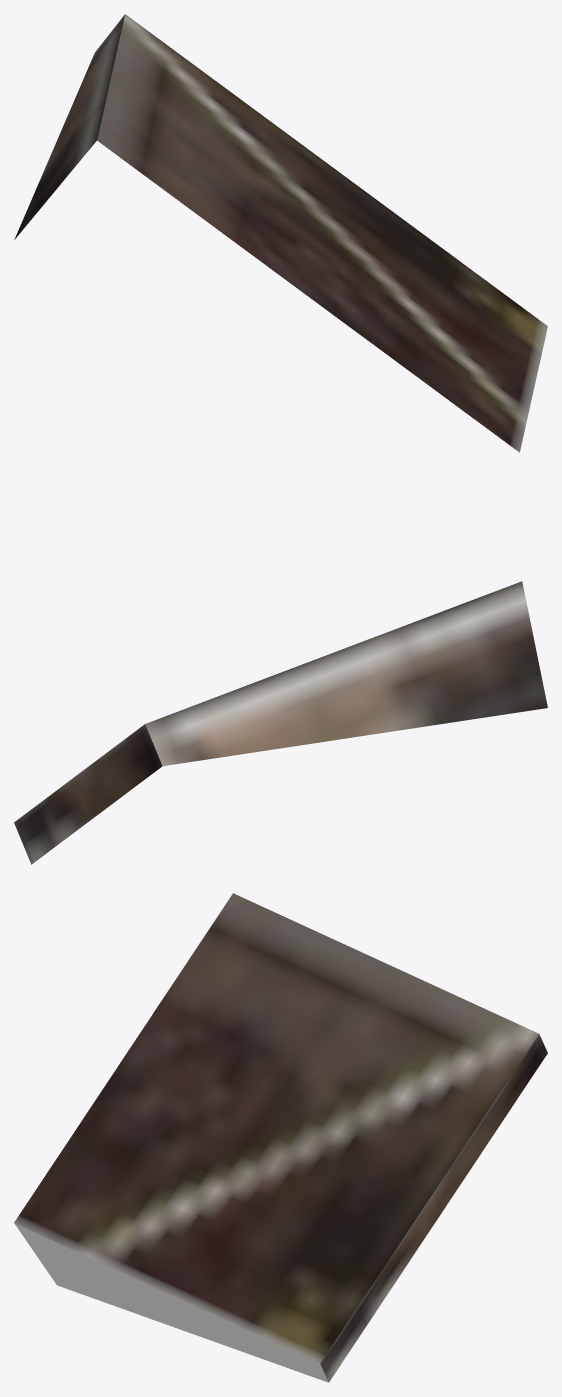
Rendered from 39546_bldg_Building.glb.
3 renders of one model, top to bottom at view 1: azimuth 30°, elevation 25°; view 2: azimuth 150°, elevation 25°; view 3: azimuth 270°, elevation 25°, orthographic. The views are drawn at different scales.
Bounding box in the file's own units: 13.33 × 8.76 × 13.92.
Materials: 3 (2 with a texture image).
